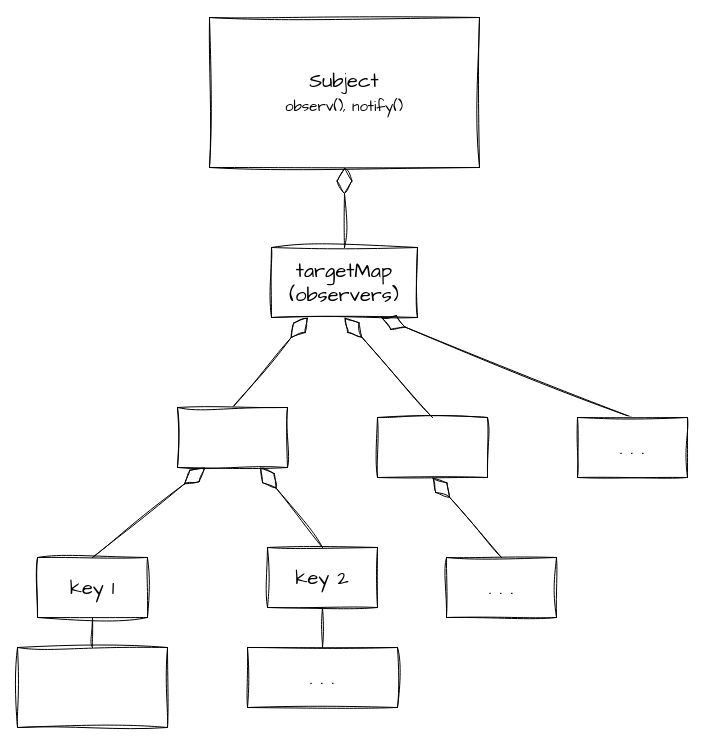
Image size: 705x745. Some labels were removed from this diagram. The shapes that lost their labels are listed below. From the top down, each one's box as (x1, y1, x2, y2) in pixels, then its label:
(176, 406, 288, 468): object 1
(376, 416, 488, 478): object 2
(16, 646, 168, 728): Dep update()
